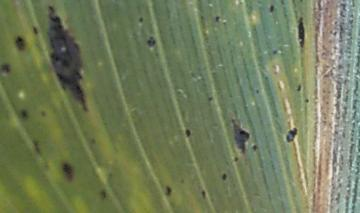tarspot: (43, 4, 90, 113), (229, 117, 251, 155), (295, 14, 307, 50), (282, 126, 299, 146), (60, 161, 75, 183), (12, 34, 26, 53), (30, 137, 43, 157), (1, 62, 13, 77), (145, 34, 156, 50), (17, 108, 29, 120), (97, 188, 107, 199), (294, 81, 303, 93), (183, 126, 191, 139), (268, 3, 275, 17), (220, 171, 228, 182), (199, 189, 207, 200), (164, 186, 172, 197), (37, 108, 48, 116), (250, 143, 259, 152), (271, 47, 279, 57), (30, 25, 38, 35), (213, 14, 221, 22), (303, 96, 310, 105), (138, 15, 144, 25), (204, 95, 214, 101), (253, 87, 261, 94), (232, 155, 239, 163), (263, 74, 269, 79), (297, 1, 304, 3)
